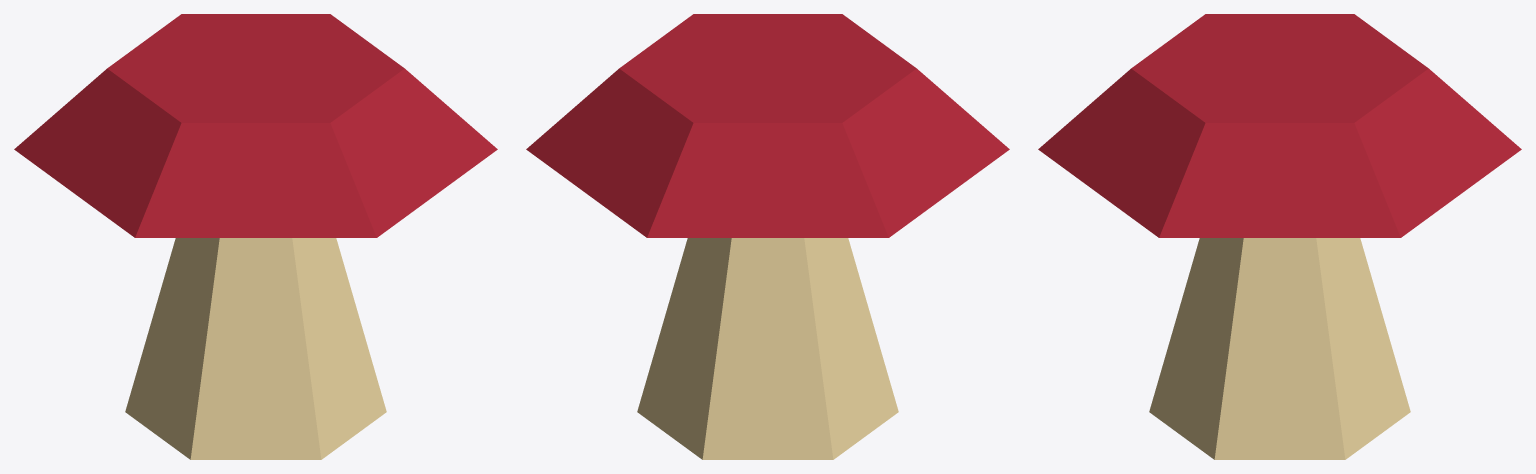
File: hongo1.fbx
3 views of the same model, side by side, from view 1: azimuth 30°, elevation 25°; view 2: azimuth 150°, elevation 25°; view 3: azimuth 270°, elevation 25° (orthographic).
Visible parts, largest first — view 1: Cylinder.001; view 2: Cylinder.001; view 3: Cylinder.001.
Part boxes in pixels (x1=…): Cylinder.001: x1=14, y1=14, x2=497, y2=459; Cylinder.001: x1=526, y1=14, x2=1009, y2=459; Cylinder.001: x1=1038, y1=14, x2=1521, y2=459.
Size of the model in its own units: 59.28 by 53.64 by 68.45.
